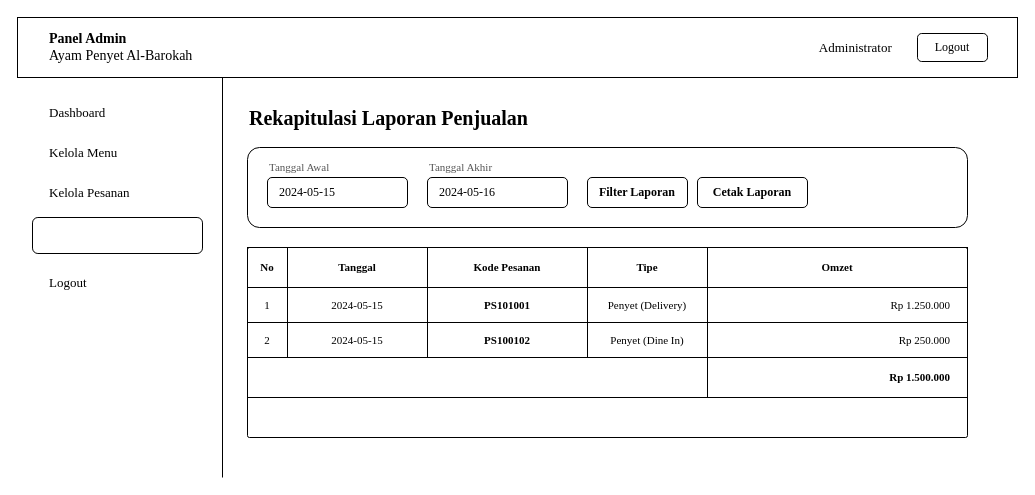
The diagram is 1035 pixels wide and 495 high, and some of its shapes have lost their labels. Here are the shapes that lost their labels. From the top down, the box of each, then its label:
(32, 216, 202, 254): Laporan Penjualan
(246, 356, 708, 398): TOTAL AKUMULASI PENDAPATAN:
